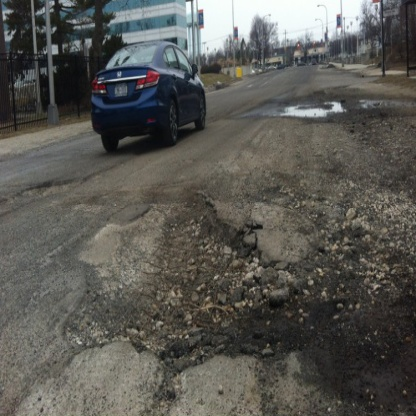pothole: (85, 187, 336, 383), (264, 90, 351, 129)
